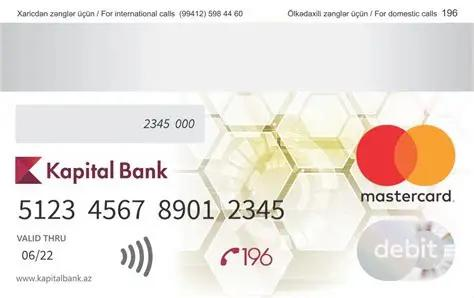Kapital Bank: (14, 155, 43, 185)
